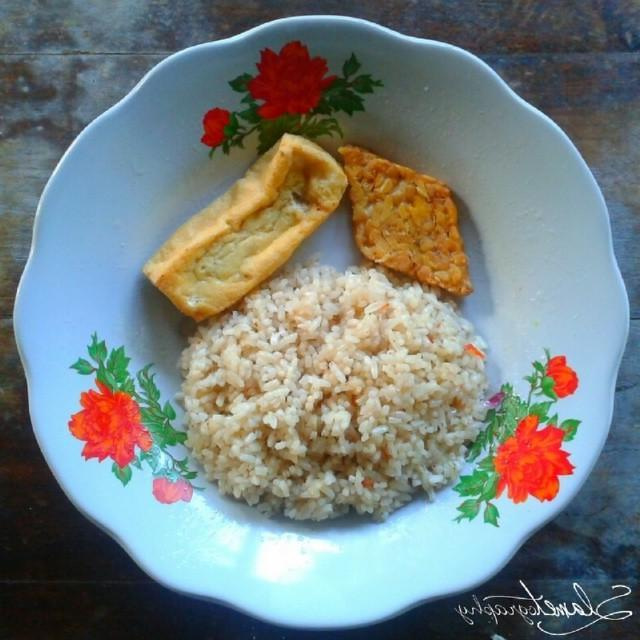nasi_putih: (183, 284, 494, 500)
